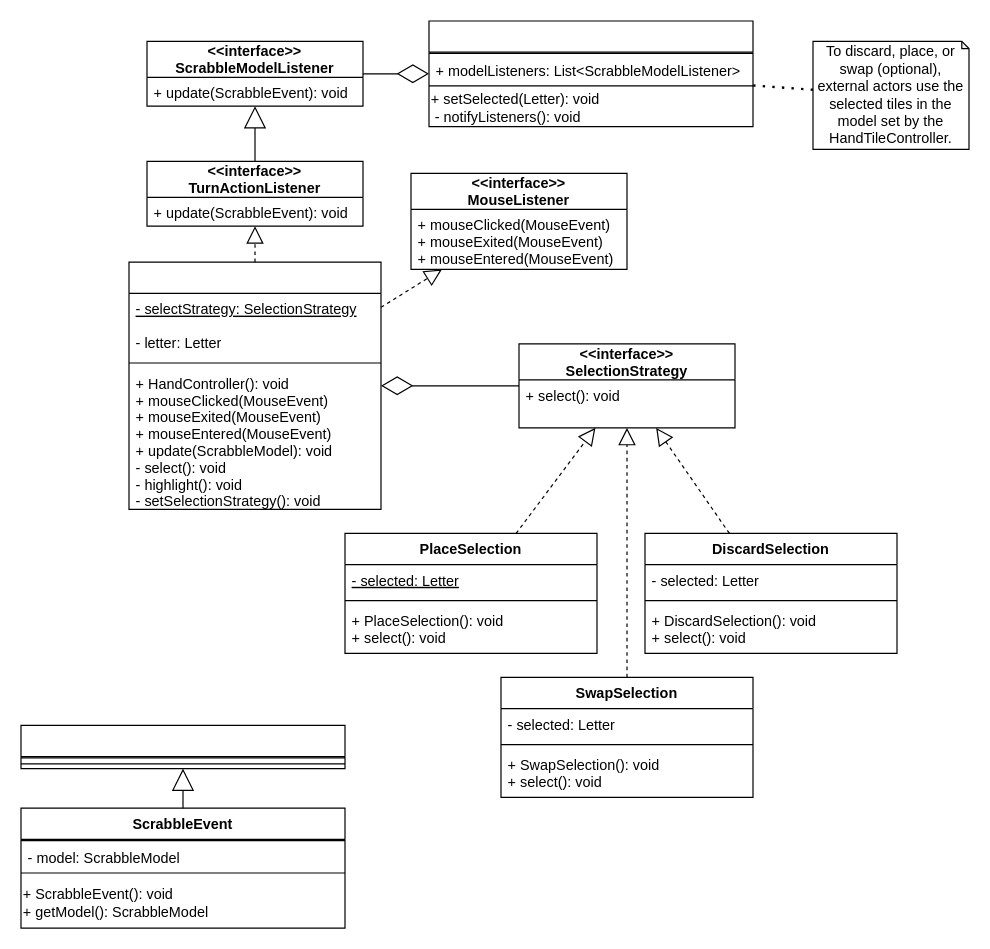
Image size: 990x949. Some labels were removed from this diagram. The box of each missing label's shape, as (x1, y1, x2, y2) in pixels:
AWTEvent: (20, 724, 345, 769)
HandTileController: (128, 261, 381, 509)
ScrabbleModel: (428, 20, 753, 127)
